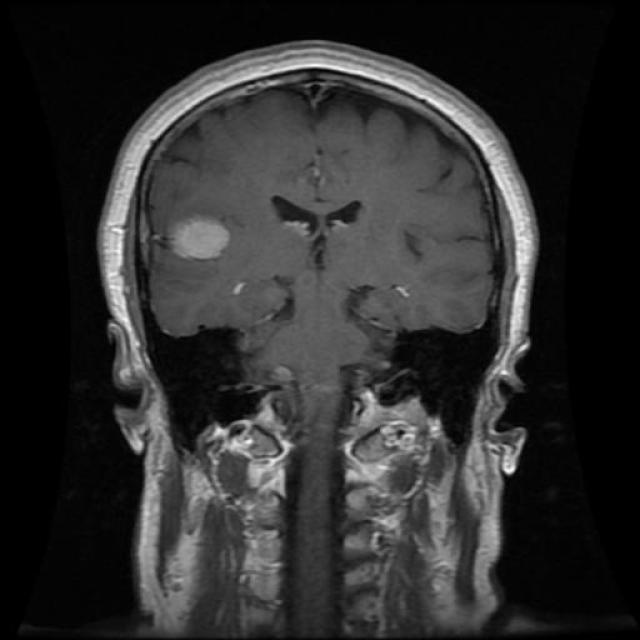meningioma: (162, 218, 230, 261)
